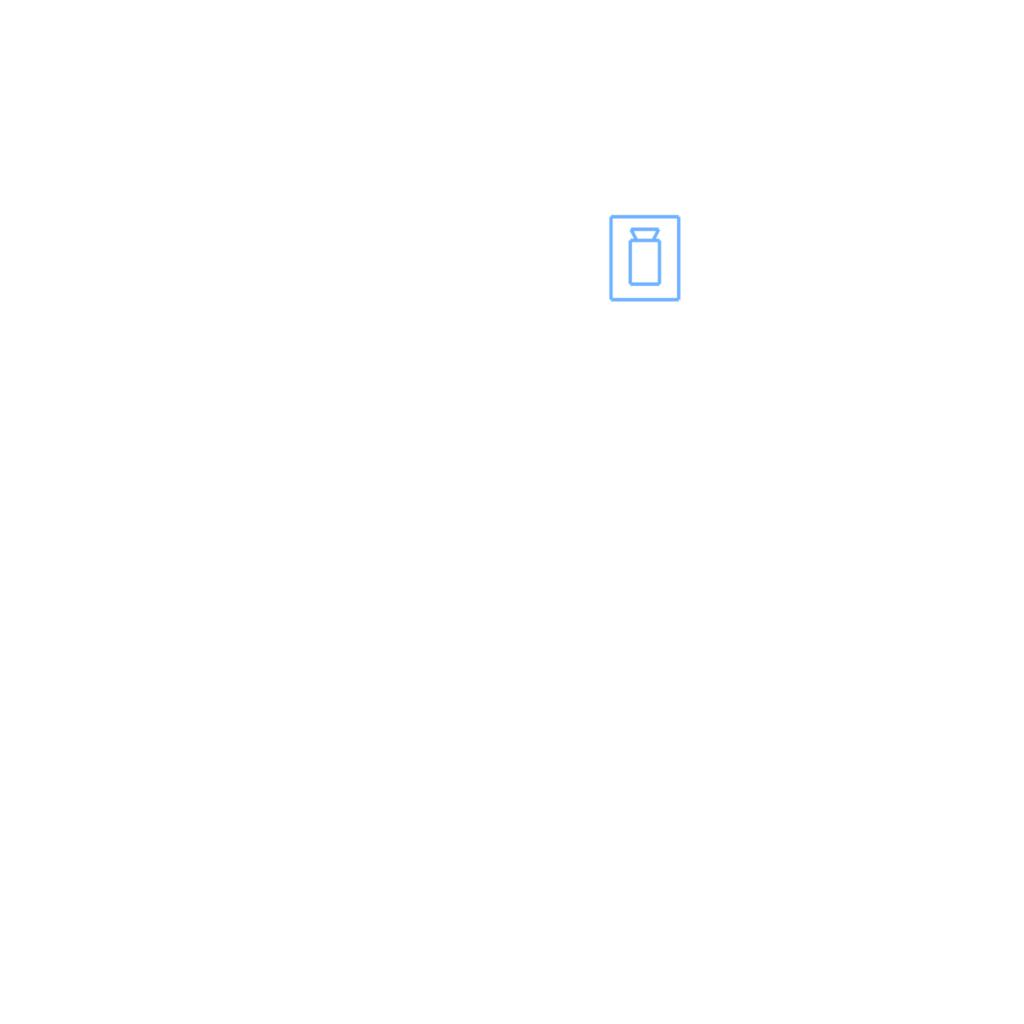KFO_Kamera_mit_Festobjektiv: (607, 213, 684, 304)
